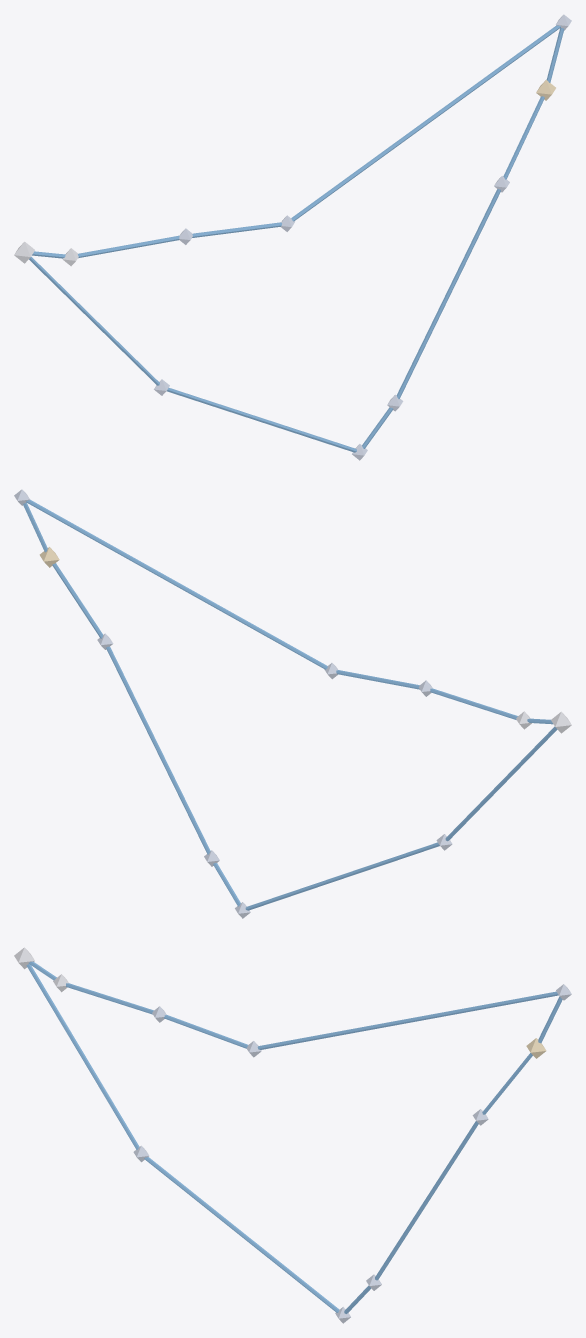
Rendered from constellation-cap.glb.
3 views of the same model, one above another, from view 1: azimuth 30°, elevation 25°; view 2: azimuth 150°, elevation 25°; view 3: azimuth 330°, elevation 25° (orthographic).
Size of the model in its own units: 2.33 by 1.54 by 0.1971.
